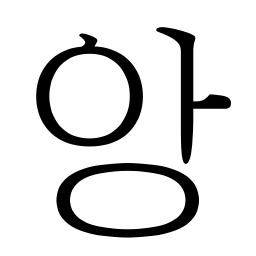Gaji: (166, 80, 212, 128)
